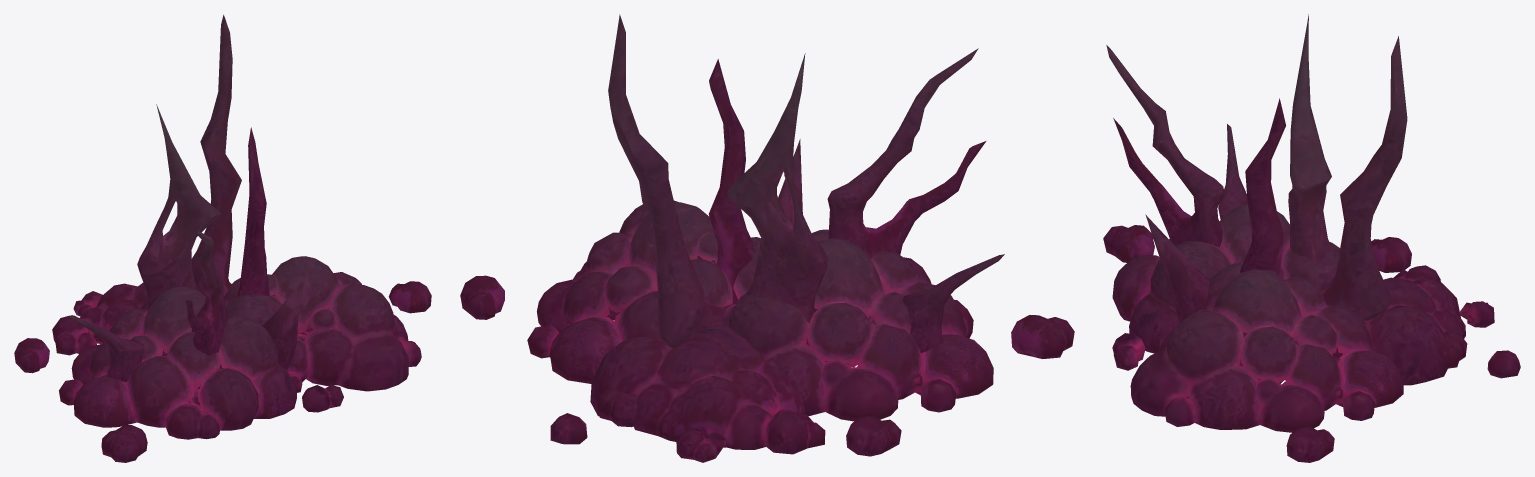
3 renders of one model, left to right at view 1: azimuth 30°, elevation 25°; view 2: azimuth 150°, elevation 25°; view 3: azimuth 270°, elevation 25°, orthographic. The views are drawn at different scales.
Parts seen in each view (by area): view 1: SM_WitherSpine_Cluster_02_LOD0; view 2: SM_WitherSpine_Cluster_02_LOD0; view 3: SM_WitherSpine_Cluster_02_LOD0.
Part boxes in pixels (x1,y1,x2,y2): SM_WitherSpine_Cluster_02_LOD0: [14, 14, 431, 462]; SM_WitherSpine_Cluster_02_LOD0: [460, 14, 1074, 462]; SM_WitherSpine_Cluster_02_LOD0: [1103, 14, 1520, 462].
Size of the model in its own units: 2.29 by 1.83 by 1.83.
Materials: 1 (1 with a texture image).
